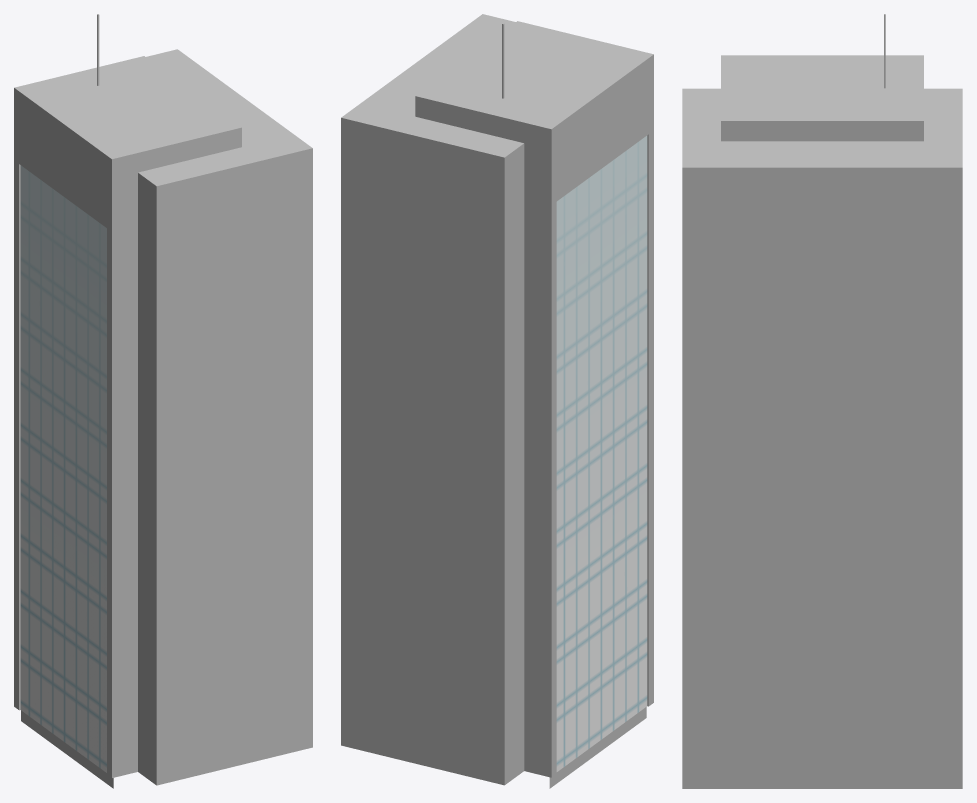
The model's file is bg_common_longmodel_006.fbx.
3 renders of one model, left to right at view 1: azimuth 30°, elevation 25°; view 2: azimuth 150°, elevation 25°; view 3: azimuth 270°, elevation 25°, orthographic. The views are drawn at different scales.
Visible parts, largest first — view 1: bg_common_longmodel_006; view 2: bg_common_longmodel_006; view 3: bg_common_longmodel_006.
Part boxes in pixels (<box>): bg_common_longmodel_006: <box>14,14,312,788</box>; bg_common_longmodel_006: <box>341,14,653,788</box>; bg_common_longmodel_006: <box>682,14,962,788</box>.
Size of the model in its own units: 1260 by 4650 by 1620.
